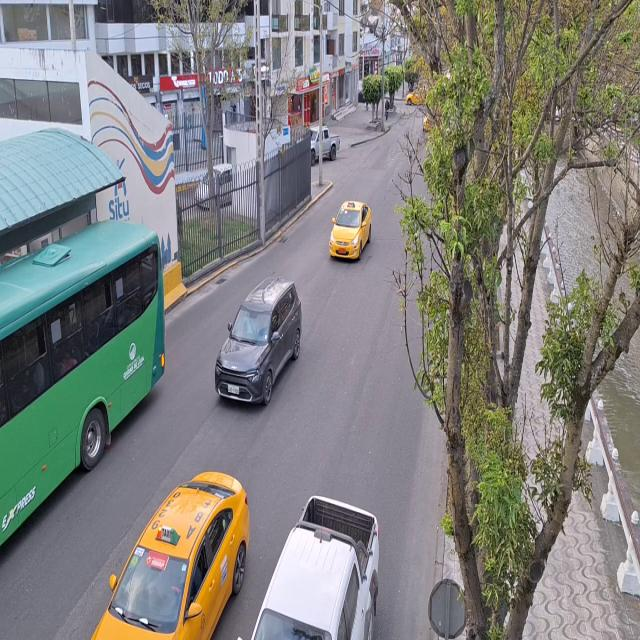BUS: (0, 229, 152, 581)
CMT: (250, 493, 382, 640)
